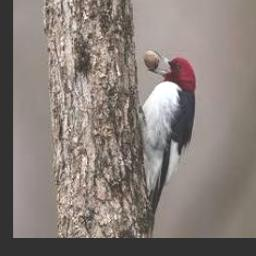Woodpecker: (139, 49, 196, 234)
